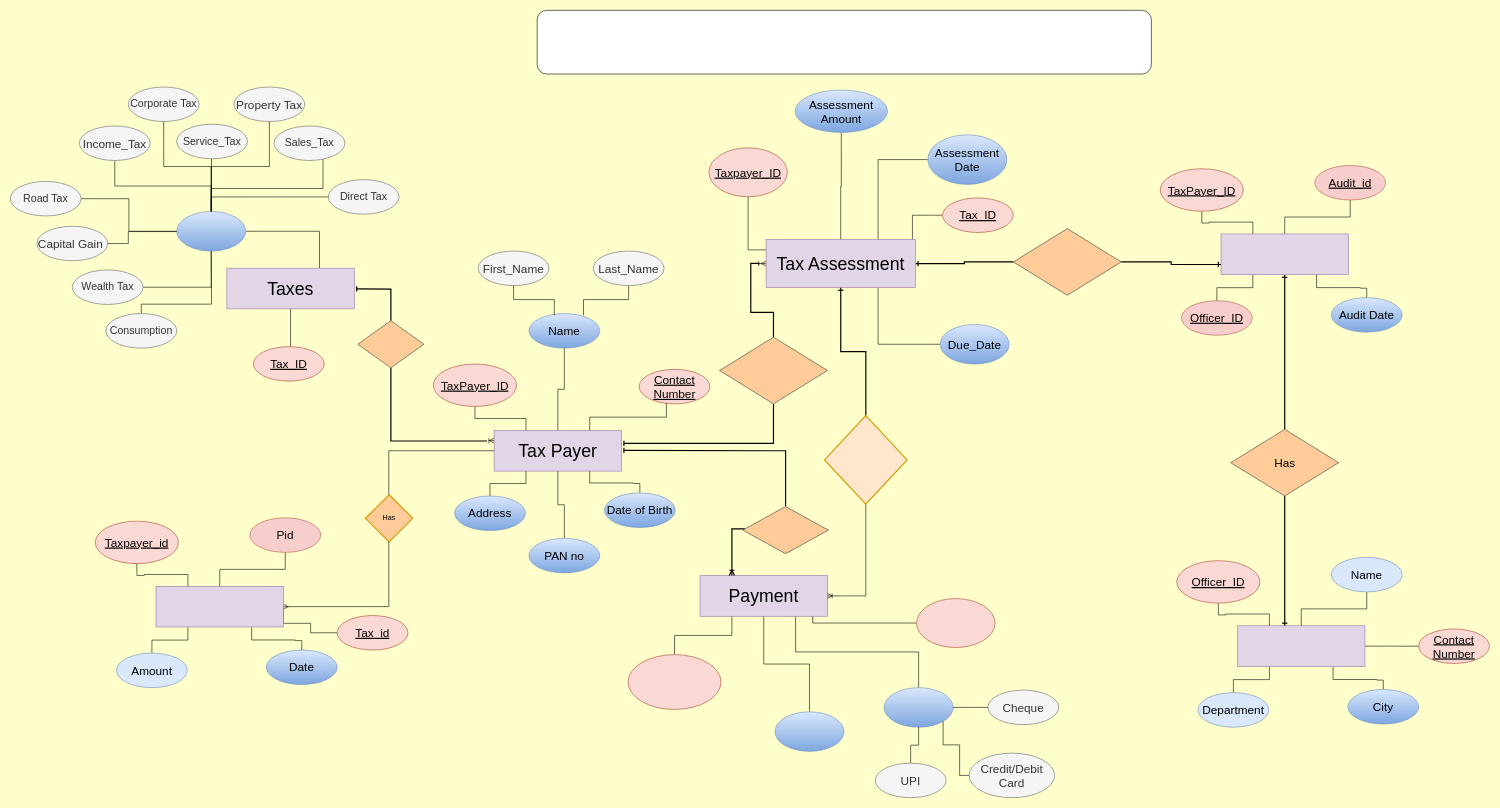
This 1500x808 diagram has some shape labels left out. The centre of each missing label's shape, as x and y in pixels:
"Applied to" belongs at pixel 390 344.
"Assign" belongs at pixel 1067 261.
"ER Diagram for Government Tax filling Service" belongs at pixel 844 42.
"Fulfilled Through" belongs at pixel 865 459.
"have Assign" belongs at pixel 773 370.
"Payment Date" belongs at pixel 809 731.
"Payment Method" belongs at pixel 918 707.
"Payment_ID" belongs at pixel 955 623.
"Pays" belongs at pixel 785 530.
"Penalty" belongs at pixel 219 606.
"Tax_Audit" belongs at pixel 1284 254.
"Tax_Name" belongs at pixel 211 231.
"Tax_Officer" belongs at pixel 1301 646.
"Transaction_ID" belongs at pixel 674 681.
